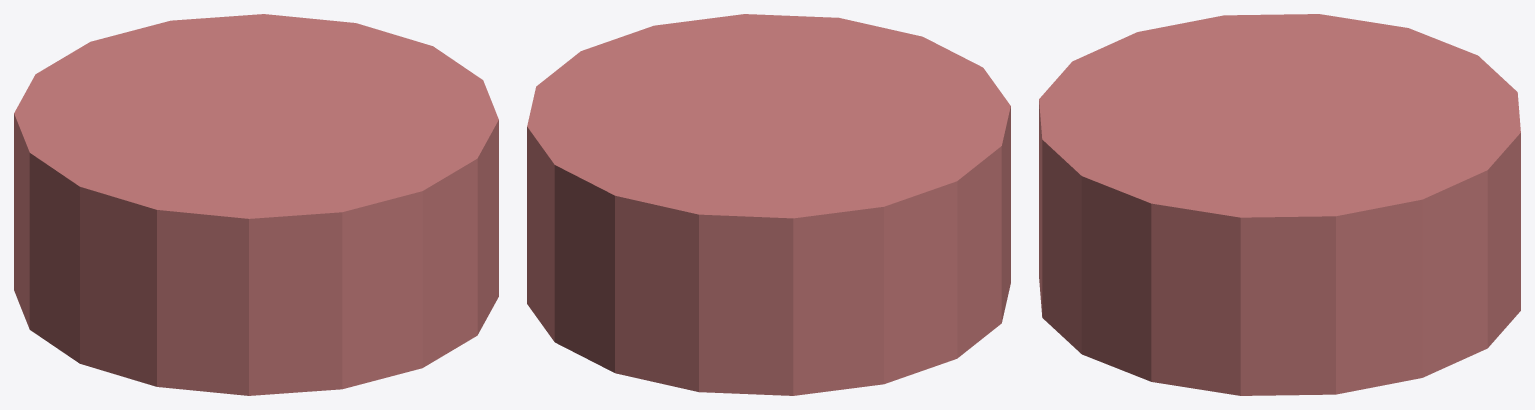
The model's file is technomancerpillar.dae.
3 views of the same model, side by side, from view 1: azimuth 30°, elevation 25°; view 2: azimuth 150°, elevation 25°; view 3: azimuth 270°, elevation 25° (orthographic).
Parts seen in each view (by area): view 1: unknown; view 2: unknown; view 3: unknown.
Boxes of the visible parts, x1,y1,x2,y2 form: unknown: [14, 14, 498, 395]; unknown: [527, 14, 1010, 395]; unknown: [1039, 14, 1520, 395].
Bounding box in the file's own units: 4.7 × 4.7 × 1.92.
